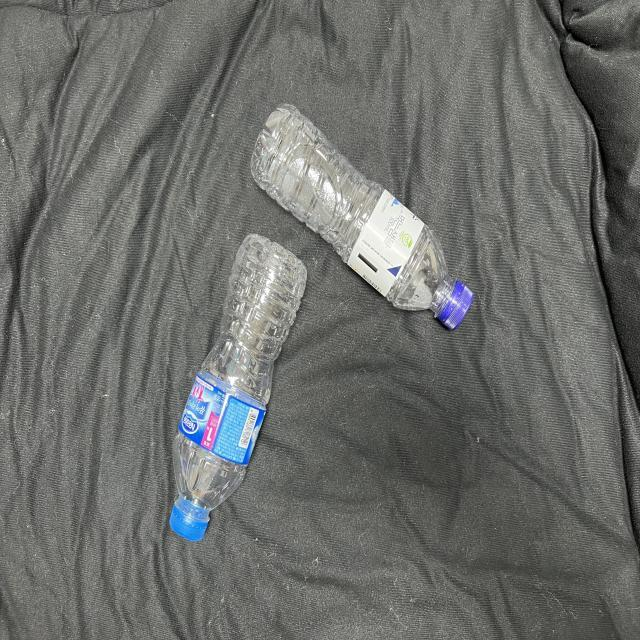good: (233, 87, 487, 359), (141, 219, 325, 563)
